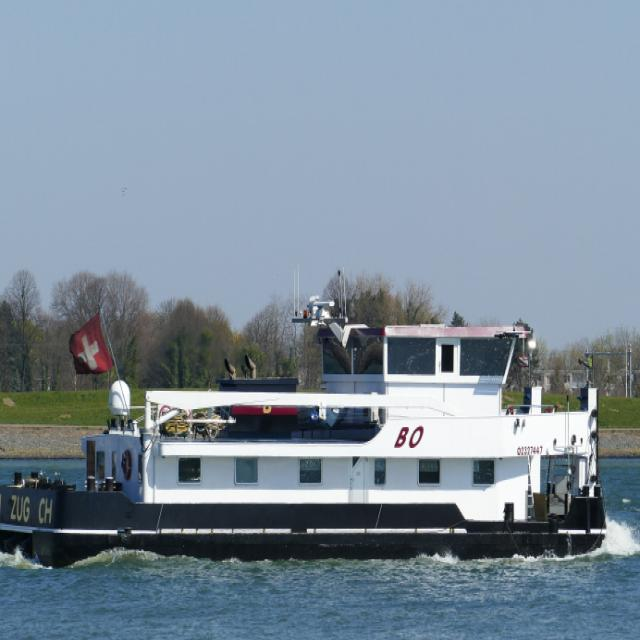tugboat: (1, 260, 613, 587)
